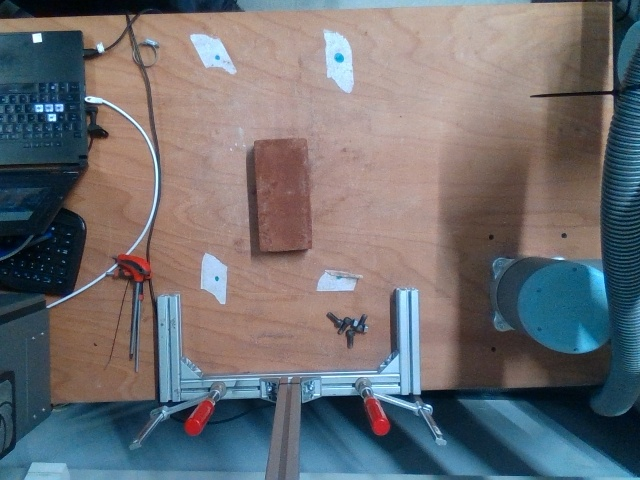brick: (253, 141, 310, 252)
